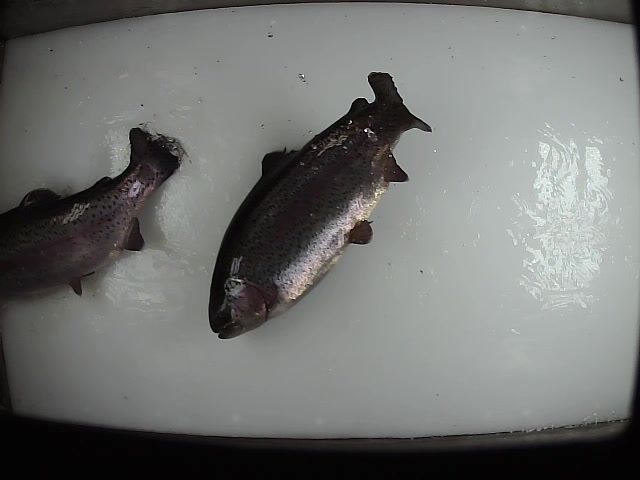fish: (205, 67, 437, 342), (1, 119, 184, 296)
